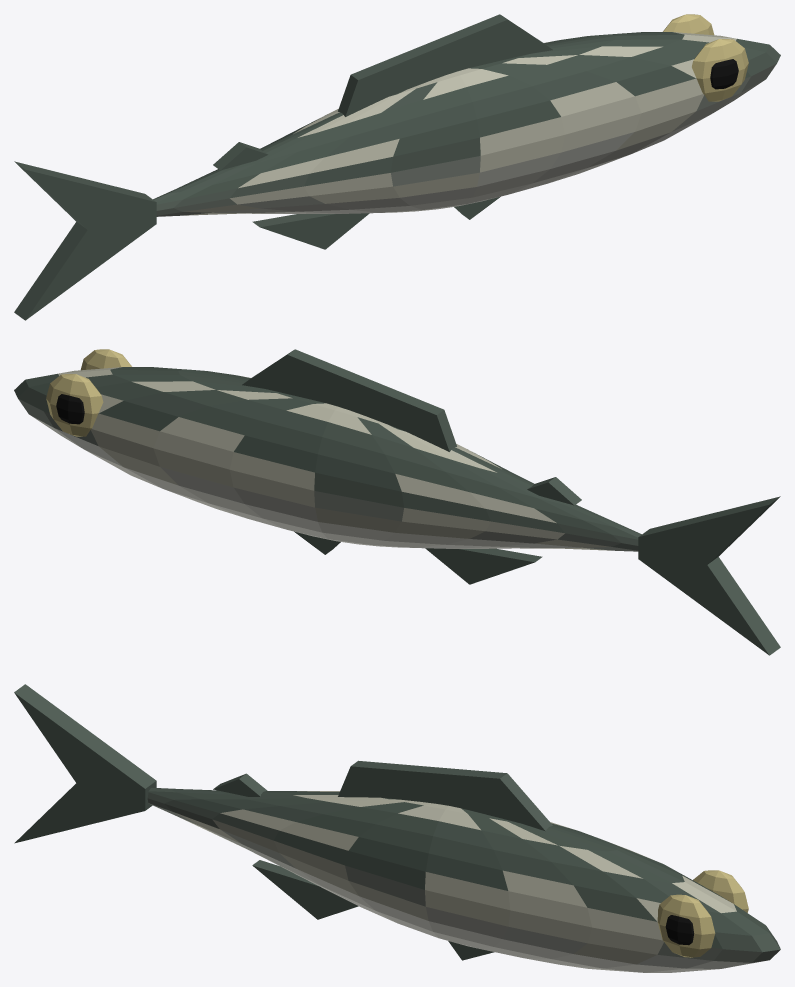
File: LakeTrout.glb
3 renders of one model, top to bottom at view 1: azimuth 30°, elevation 25°; view 2: azimuth 150°, elevation 25°; view 3: azimuth 330°, elevation 25°, orthographic.
Visible parts, largest first — view 1: LakeTrout; view 2: LakeTrout; view 3: LakeTrout.
Part boxes in pixels (left/top/right/bottom): LakeTrout: left=14, top=14, right=780, bottom=320; LakeTrout: left=14, top=349, right=780, bottom=655; LakeTrout: left=14, top=684, right=780, bottom=972.
Size of the model in its own units: 6.28 by 1.51 by 0.8.
